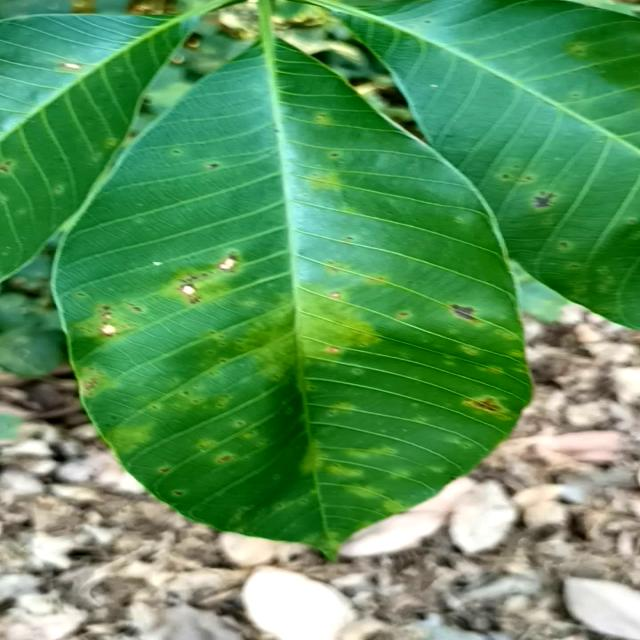Colletotrichum: (180, 284, 197, 294), (331, 291, 341, 299)
